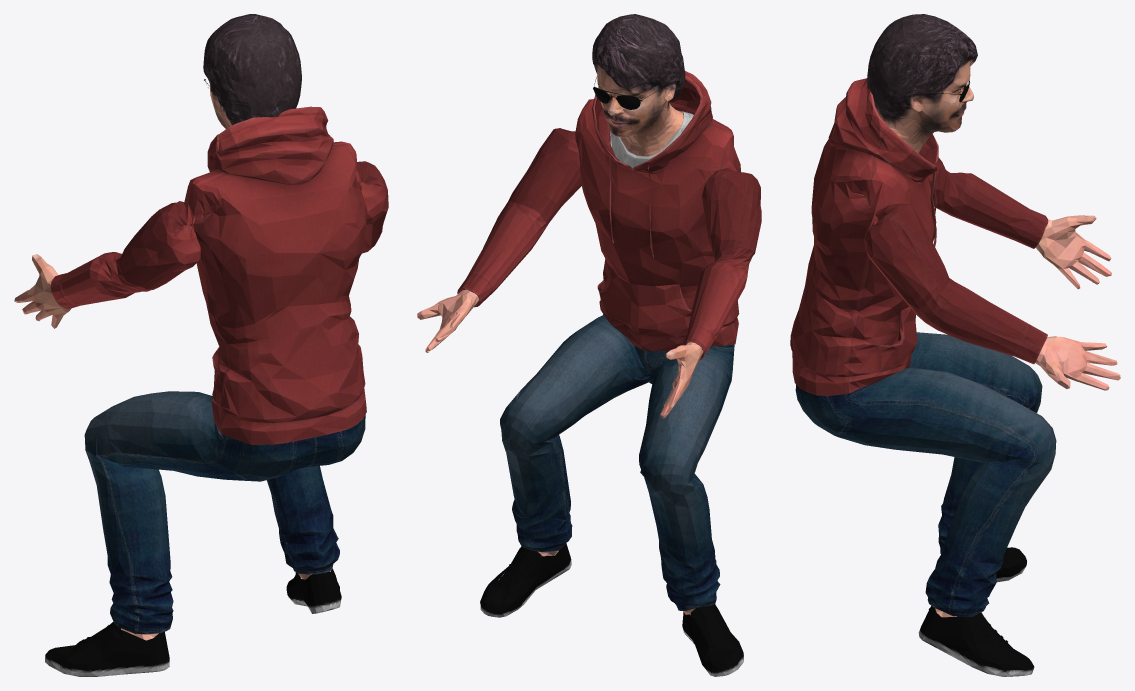
Rendered from rx100_rider.glb.
3 views of the same model, side by side, from view 1: azimuth 30°, elevation 25°; view 2: azimuth 150°, elevation 25°; view 3: azimuth 270°, elevation 25° (orthographic). The views are drawn at different scales.
Size of the model in its own units: 0.7889 by 1.53 by 0.74.
Materials: 10 (9 with a texture image).
